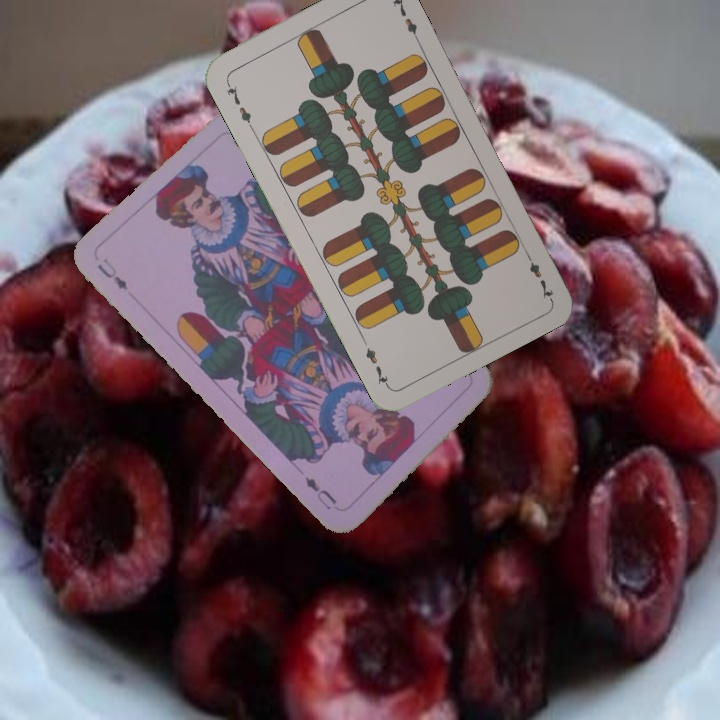E7: (520, 247, 556, 302), (222, 77, 256, 132)
EU: (93, 254, 130, 293)
